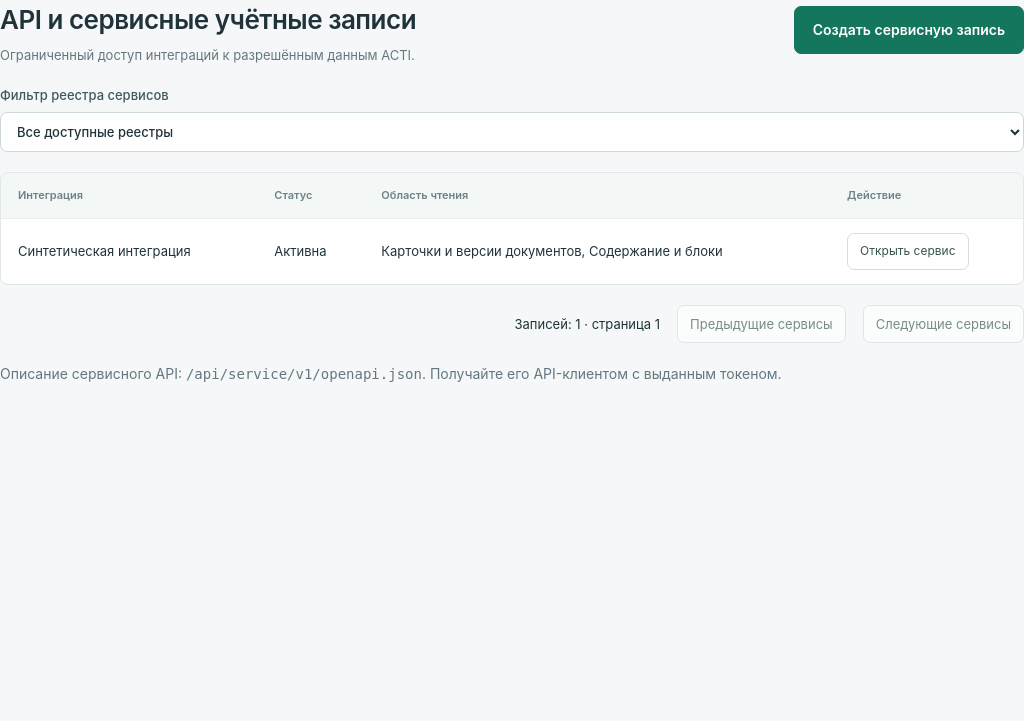
Test: rotates a token with its prior subset rather than silently expanding to the account scope
This screenshot has width=1024, height=721.
Step 1. Click the button "Открыть сервис" → click(908, 251), box x1=847 y1=233 x2=968 y2=270
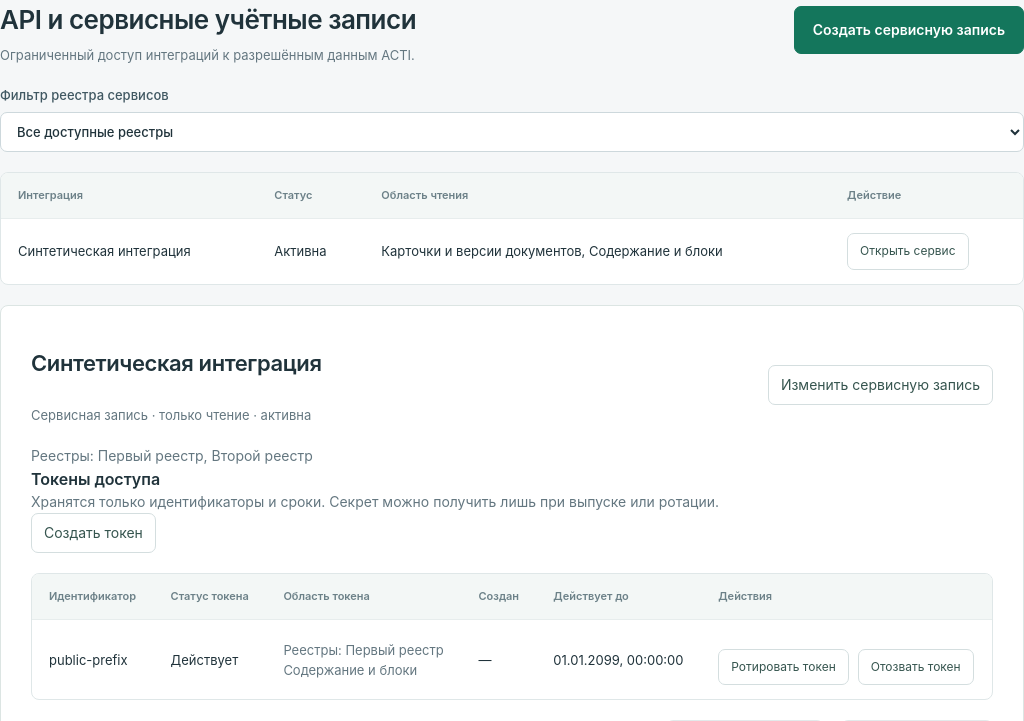
Now the heading "Синтетическая интеграция" is shown, box x1=31 y1=346 x2=322 y2=380
Step 2. Click the button "Ротировать токен" → click(784, 667), box x1=718 y1=649 x2=849 y2=686
(page scrolled)
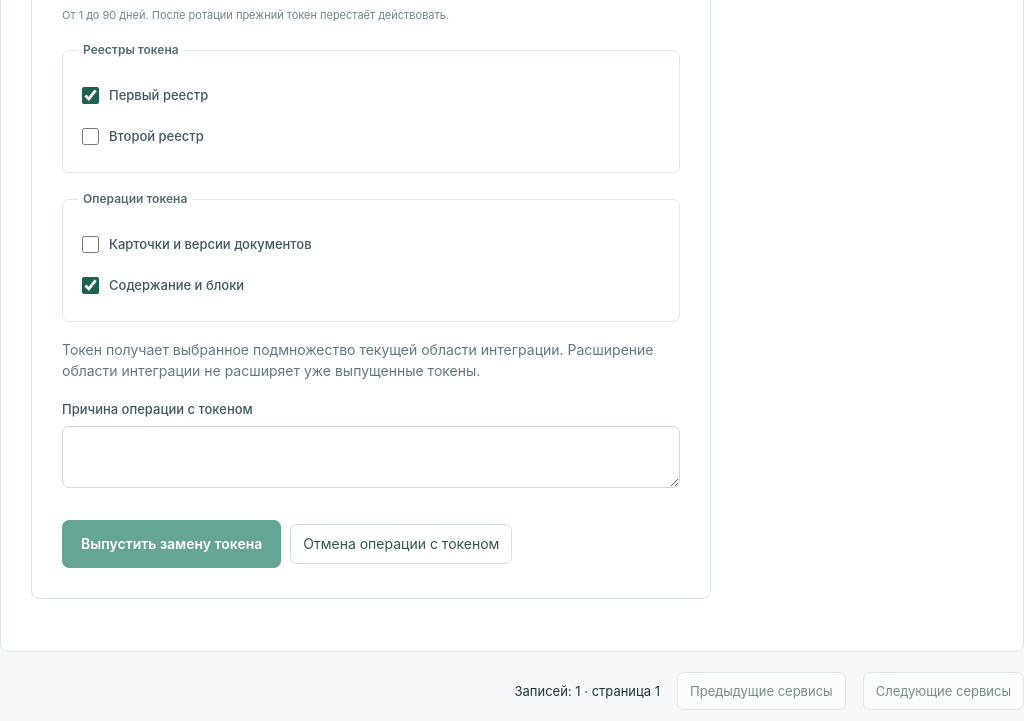
Step 3. Type "Плановая замена" into the text box labelled "Причина операции с токеном" → (371, 457), box x1=62 y1=426 x2=680 y2=488
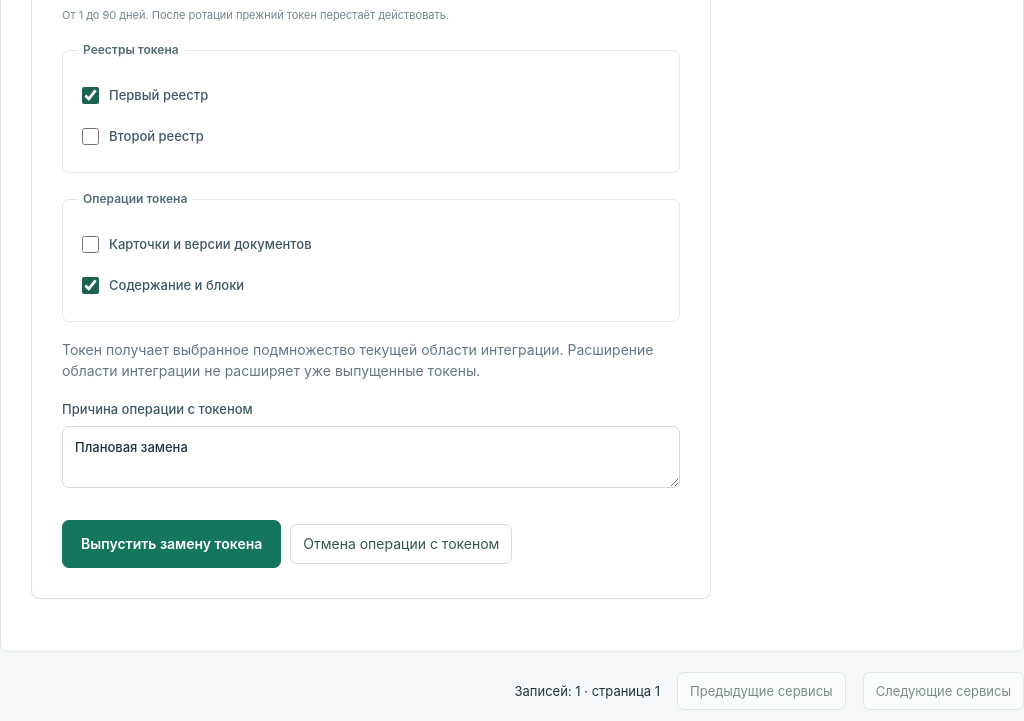
Step 4. Click the button "Выпустить замену токена" → click(172, 544), box x1=62 y1=520 x2=281 y2=568
(page scrolled)
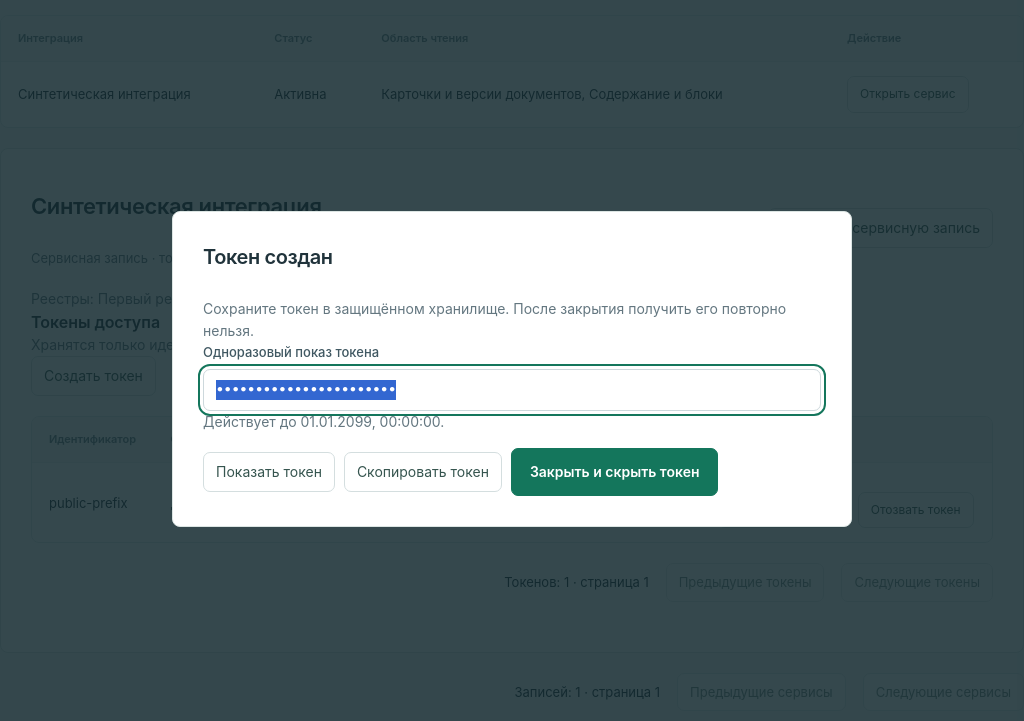
Now the dialog is shown, box x1=172 y1=212 x2=852 y2=526
Step 5. Press Escape
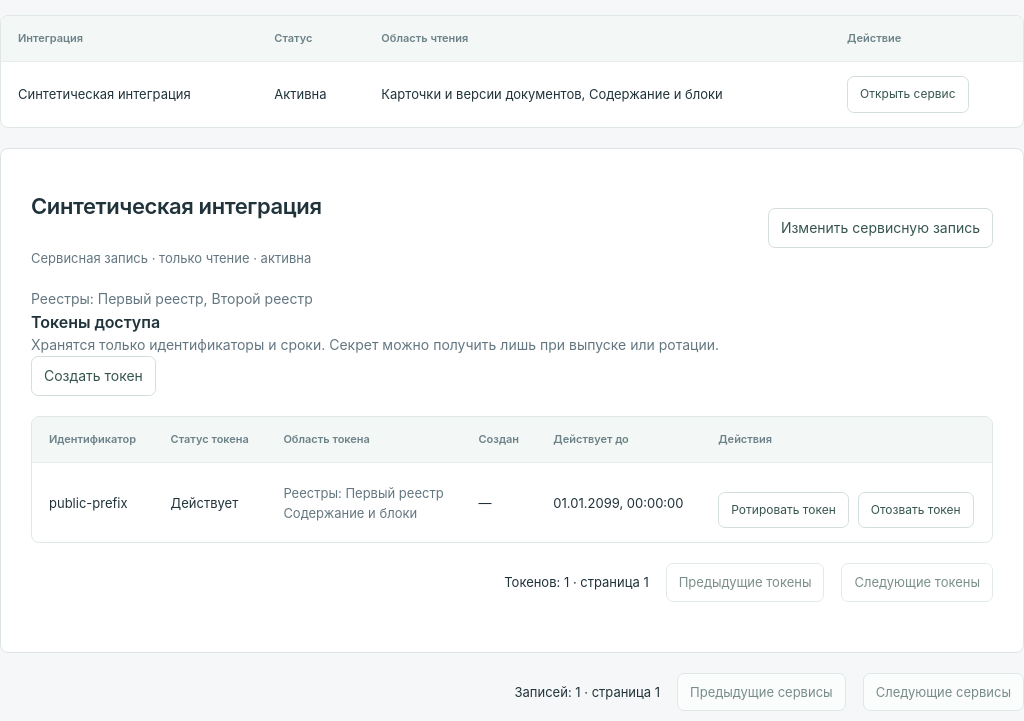
Now the dialog is gone
